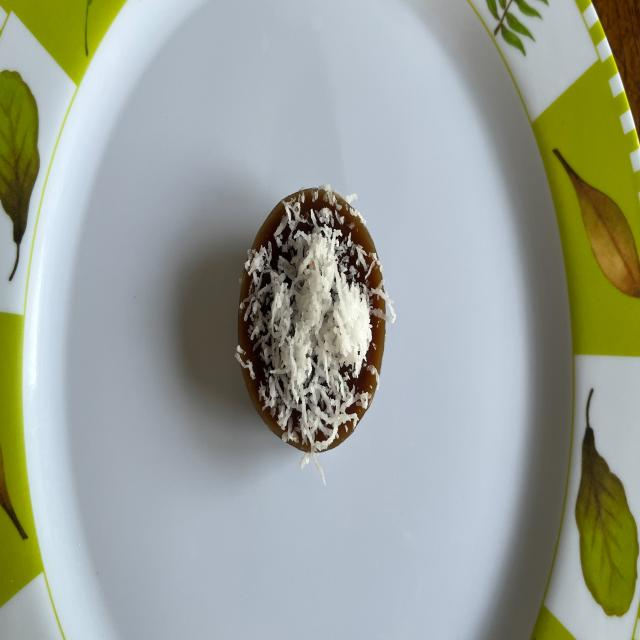Kuih lompang: (236, 184, 390, 467)
